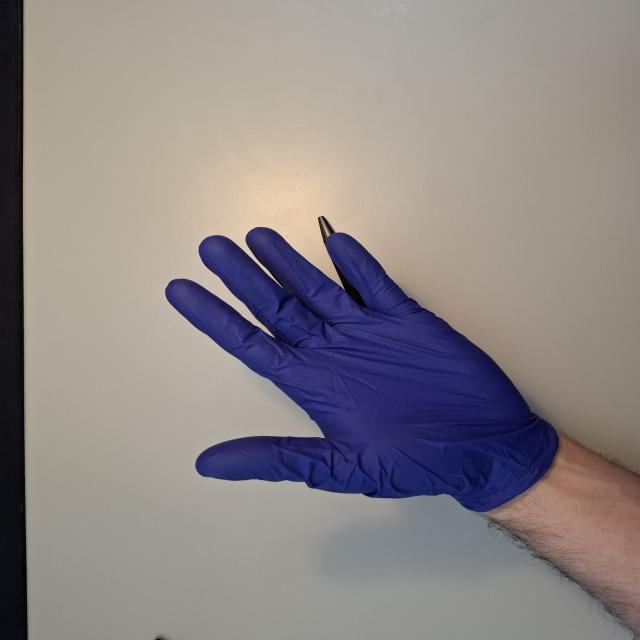glove_on: (162, 224, 555, 505)
